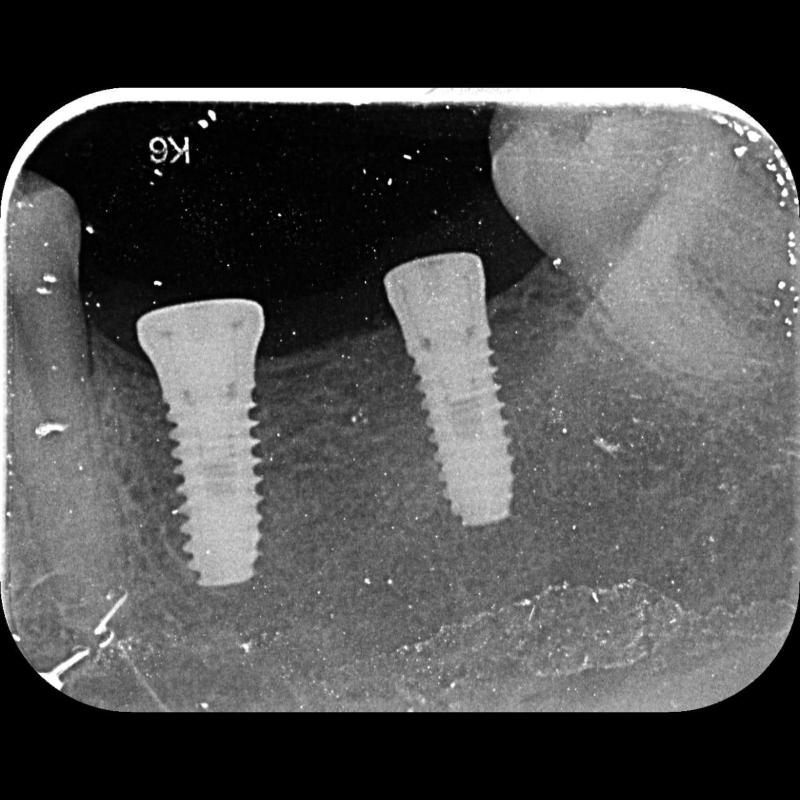osstem: (384, 242, 512, 548), (144, 300, 264, 596)
